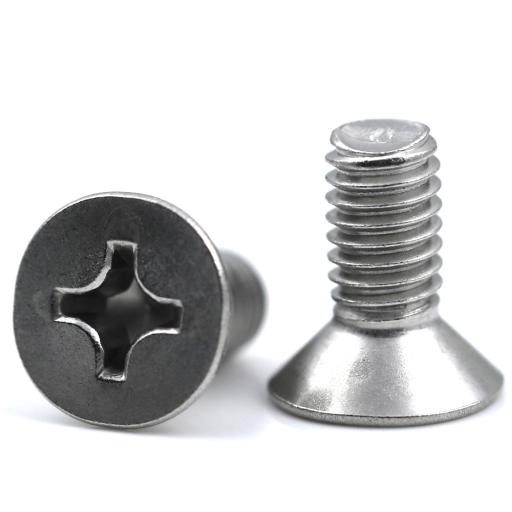Phillips: (13, 186, 230, 431)
